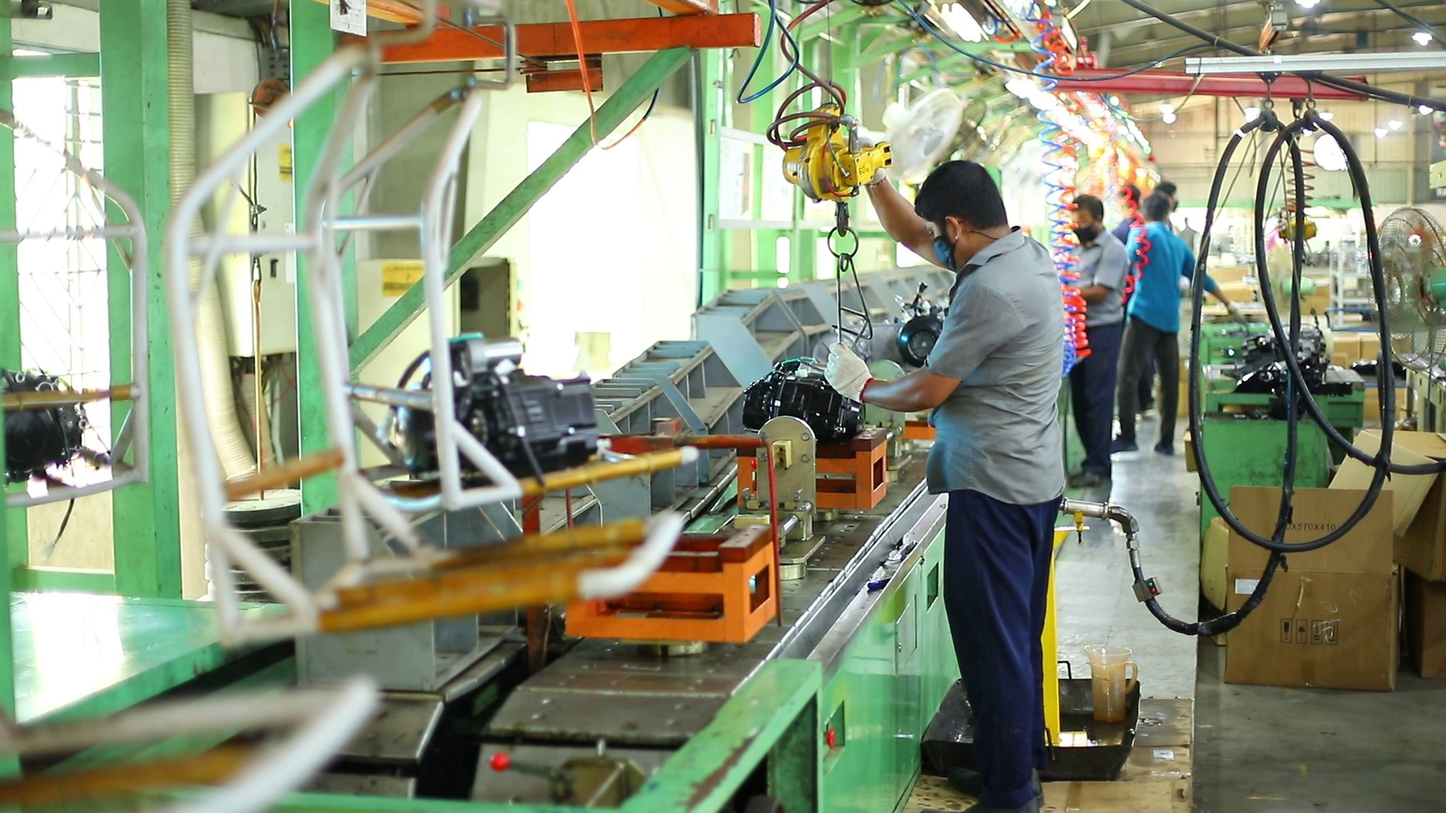mask: (932, 234, 956, 272), (1075, 223, 1098, 243)
person: (821, 159, 1066, 813), (1111, 188, 1245, 458), (1060, 193, 1131, 489), (1107, 182, 1140, 245), (1153, 181, 1179, 221)
